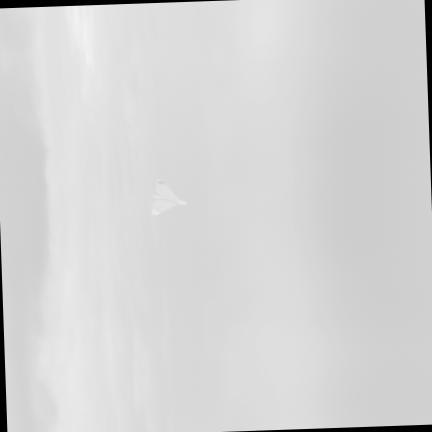Shahed: (152, 179, 186, 214)
